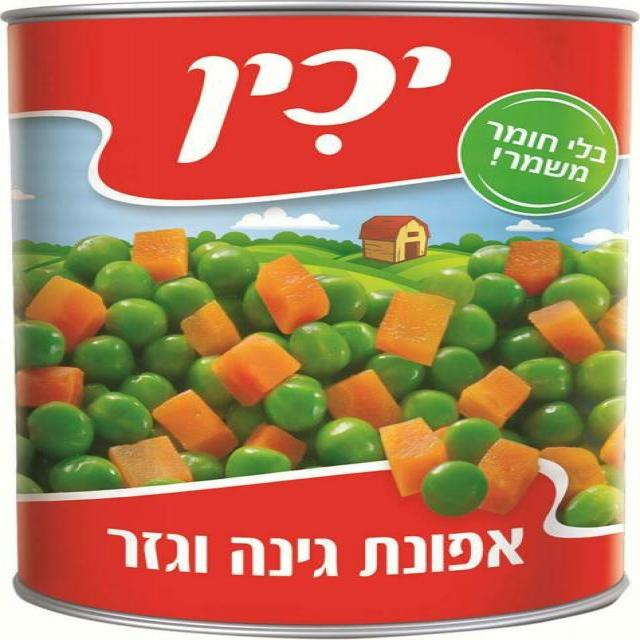pea: (262, 372, 328, 436), (420, 459, 490, 518), (27, 401, 92, 459), (538, 272, 613, 321), (289, 318, 350, 374), (102, 294, 165, 346), (518, 400, 584, 447), (193, 246, 258, 292), (76, 335, 133, 384), (398, 388, 461, 428), (226, 443, 287, 480), (451, 301, 496, 351), (517, 352, 567, 397)
